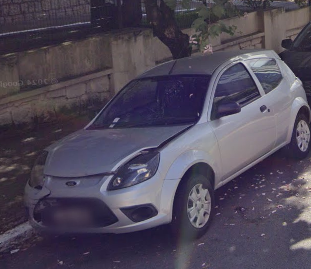car: (25, 48, 311, 238)
